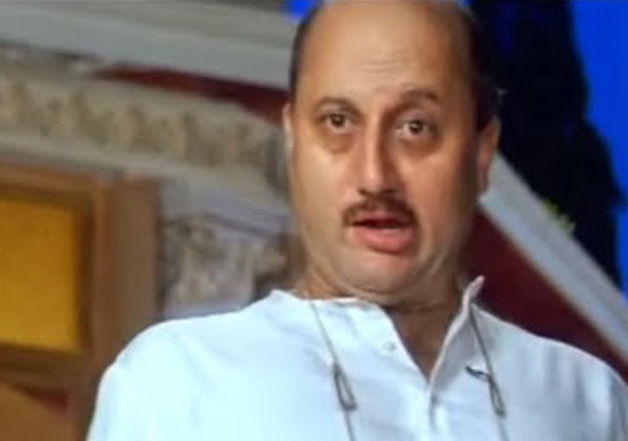stroke: (295, 62, 442, 303)
